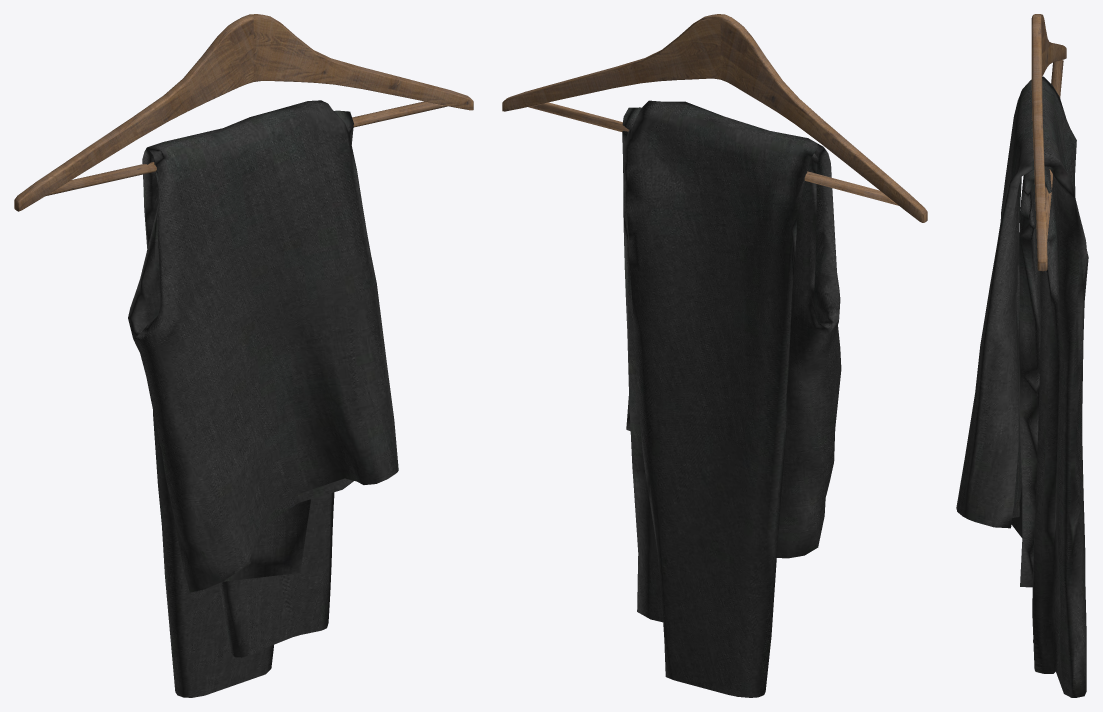
Rendered from hvpants_Plants600.glb.
3 views of the same model, side by side, from view 1: azimuth 30°, elevation 25°; view 2: azimuth 150°, elevation 25°; view 3: azimuth 270°, elevation 25° (orthographic). The views are drawn at different scales.
Parts seen in each view (by area): view 1: Plants600_StaticMeshComponent0; view 2: Plants600_StaticMeshComponent0; view 3: Plants600_StaticMeshComponent0.
Boxes of the visible parts, x1=… form: Plants600_StaticMeshComponent0: x1=14, y1=14, x2=473, y2=697; Plants600_StaticMeshComponent0: x1=502, y1=14, x2=927, y2=697; Plants600_StaticMeshComponent0: x1=956, y1=14, x2=1088, y2=697.
Size of the model in its own units: 0.437 by 0.6334 by 0.1143.
Materials: 2 (2 with a texture image).
